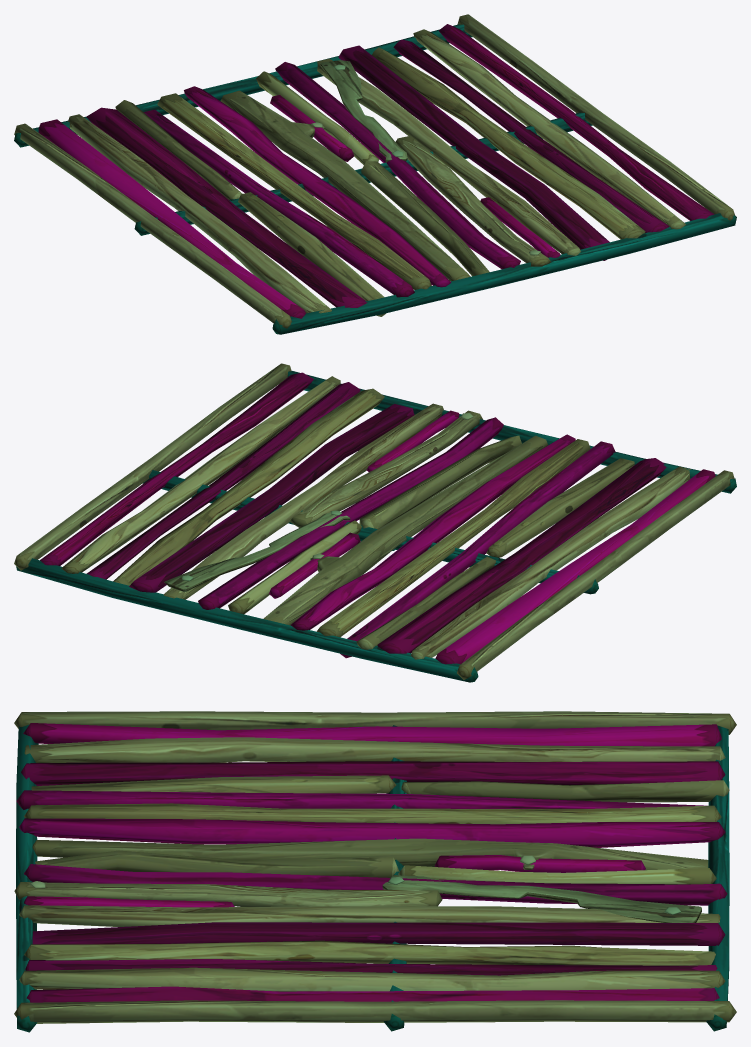
The model's file is buildFloor.glb.
3 renders of one model, top to bottom at view 1: azimuth 30°, elevation 25°; view 2: azimuth 150°, elevation 25°; view 3: azimuth 270°, elevation 25°, orthographic. The views are drawn at different scales.
Visible parts, largest first — view 1: PBW_W1_Floor; view 2: PBW_W1_Floor; view 3: PBW_W1_Floor.
Boxes of the visible parts, bbox=[...] form: PBW_W1_Floor: bbox=[14, 14, 736, 334]; PBW_W1_Floor: bbox=[14, 363, 736, 682]; PBW_W1_Floor: bbox=[14, 711, 736, 1032].
Bounding box in the file's own units: 5.17 × 0.2809 × 5.22.
1 material, 1 textured.
